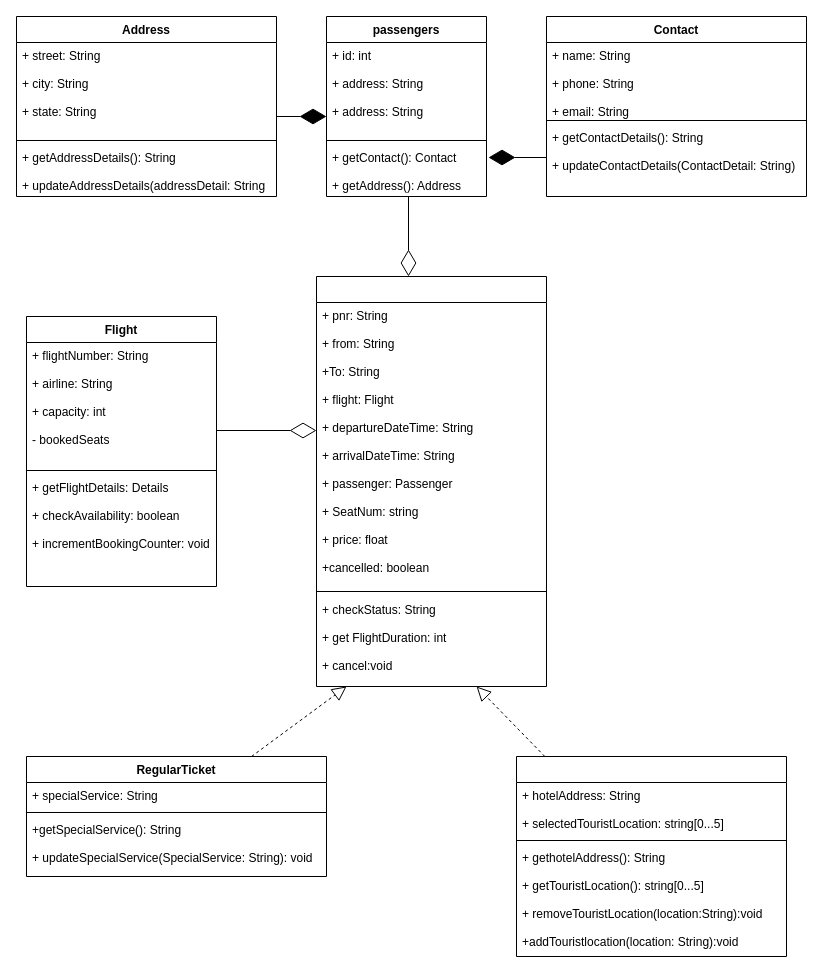
This 823x973 diagram has some shape labels left out. Here are the shapes that lost their labels. From the top down, the box of each, then its label:
(316, 276, 546, 686): Ticket
(516, 756, 786, 956): TouristTicket
